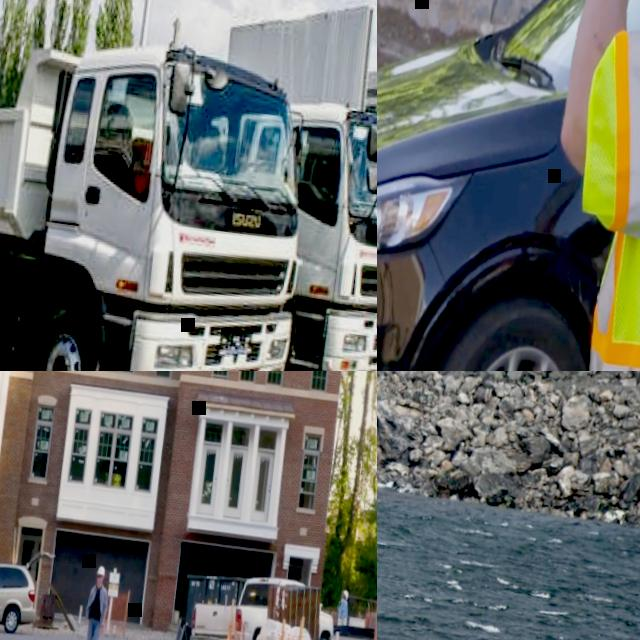Hardhat: (96, 564, 105, 574), (341, 590, 349, 598)
NO-Mask: (96, 576, 102, 584)
NO-Safety Vest: (86, 583, 107, 620), (337, 599, 349, 620)
Person: (526, 0, 640, 371), (76, 561, 111, 640), (336, 589, 351, 625)
Safety Vest: (558, 0, 640, 371)
vehicle: (0, 0, 325, 371), (377, 0, 640, 371), (250, 92, 377, 371), (185, 565, 339, 640), (0, 534, 54, 637)
